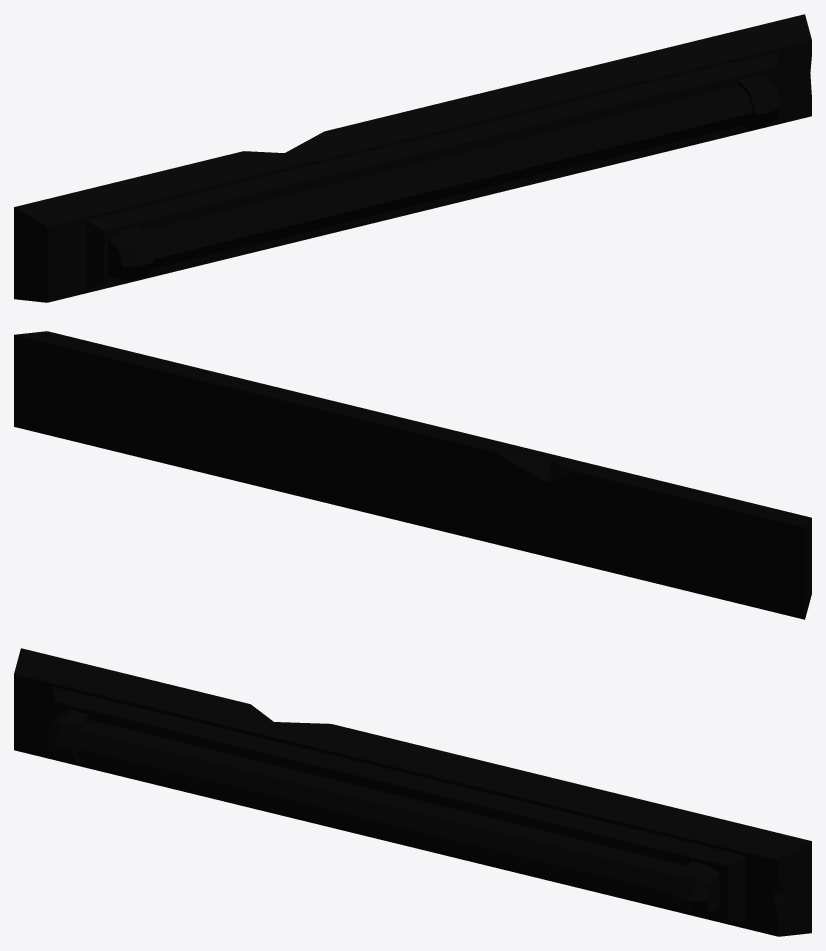
The model's file is cyber_SM_Prop_Street_Light_12.gltf.
The picture shows the model from 3 angles, top to bottom: view 1: azimuth 30°, elevation 25°; view 2: azimuth 150°, elevation 25°; view 3: azimuth 330°, elevation 25°; orthographic projection.
Visible parts, largest first — view 1: SM_Prop_Street_Light_12; view 2: SM_Prop_Street_Light_12; view 3: SM_Prop_Street_Light_12.
Part boxes in pixels (bbox=[...]): SM_Prop_Street_Light_12: bbox=[14, 14, 811, 302]; SM_Prop_Street_Light_12: bbox=[14, 331, 811, 619]; SM_Prop_Street_Light_12: bbox=[14, 648, 811, 936].
Bounding box in the file's own units: 1.67 × 0.1859 × 0.1641.
Materials: 1 (1 with a texture image).
